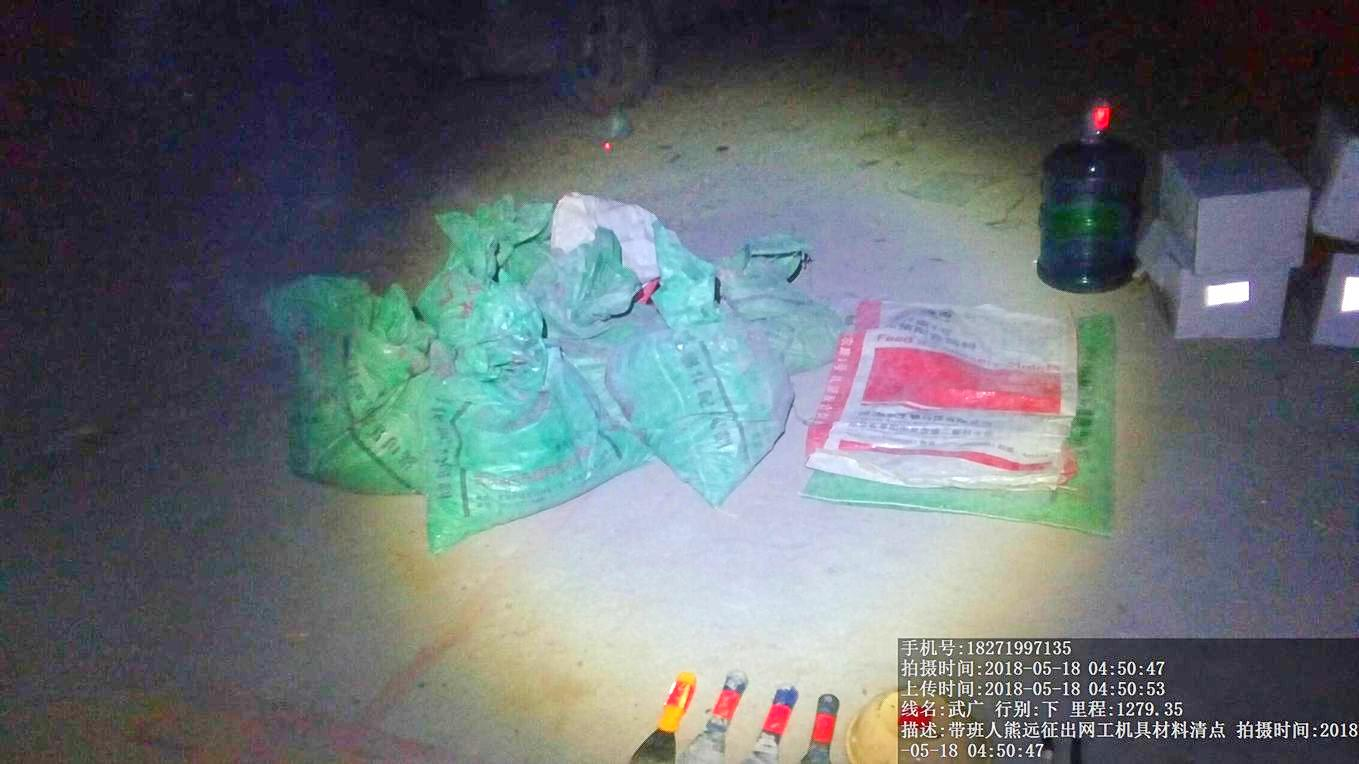BZD: (794, 295, 1137, 548)
